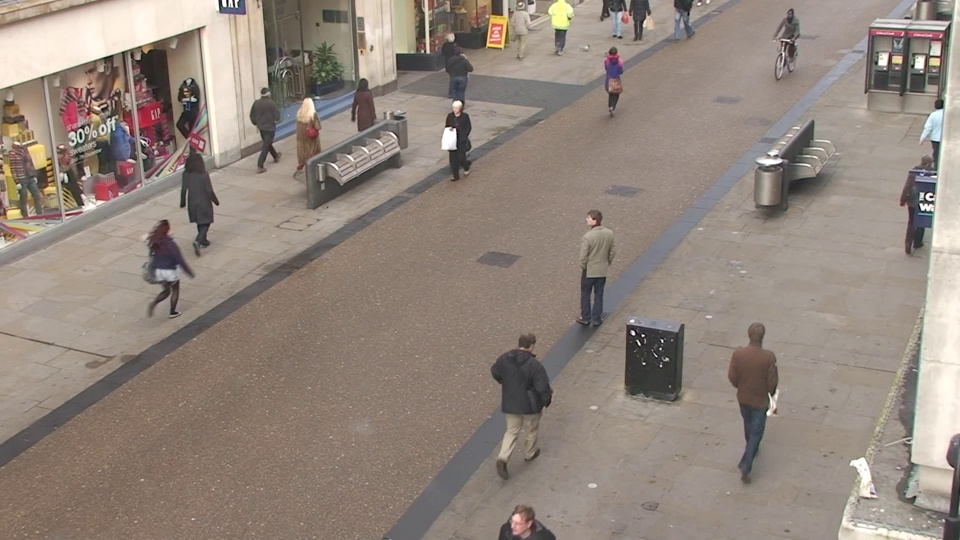pedestrian: (727, 315, 780, 464), (502, 323, 549, 473), (144, 215, 193, 334), (575, 204, 613, 324), (910, 94, 956, 189), (177, 153, 219, 256), (294, 93, 327, 181), (492, 492, 552, 540), (444, 96, 475, 187), (251, 82, 284, 167), (348, 75, 378, 159), (445, 43, 472, 118), (775, 5, 803, 73), (600, 44, 625, 120), (437, 29, 463, 101)
